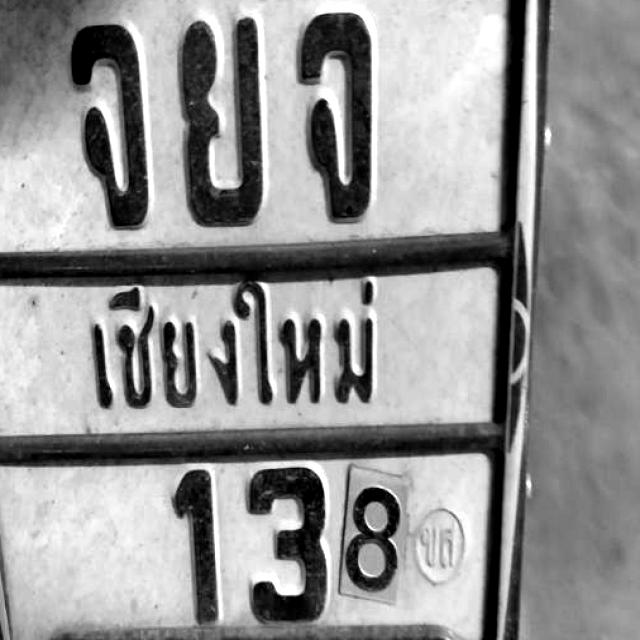letters: (172, 9, 282, 238), (63, 7, 169, 240), (293, 3, 391, 237), (233, 452, 328, 628), (169, 464, 229, 624), (350, 450, 404, 597)
license-plate: (0, 0, 550, 640)
province: (91, 281, 409, 417)
